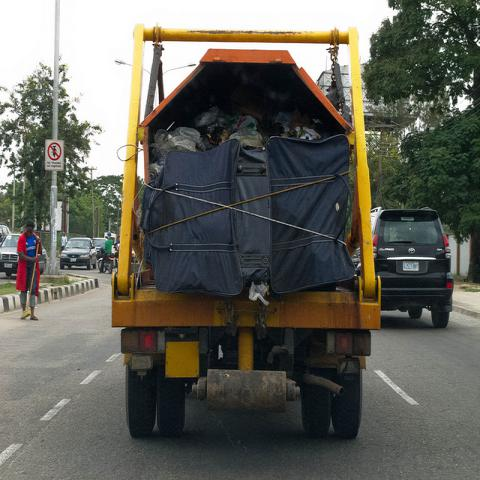car: (368, 205, 453, 334), (0, 234, 47, 276), (60, 240, 96, 270), (0, 225, 11, 245), (94, 240, 107, 250)
motorcycle: (98, 246, 113, 274), (114, 241, 120, 273)
truck: (108, 21, 382, 439)
